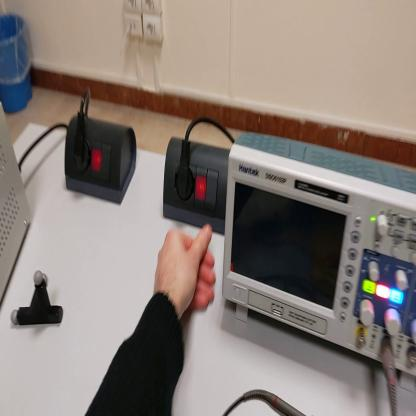hand: (153, 224, 217, 318)
oscilloscope: (222, 126, 416, 378)
power supply: (2, 94, 33, 308)
socket: (163, 130, 233, 231), (63, 114, 139, 206)
